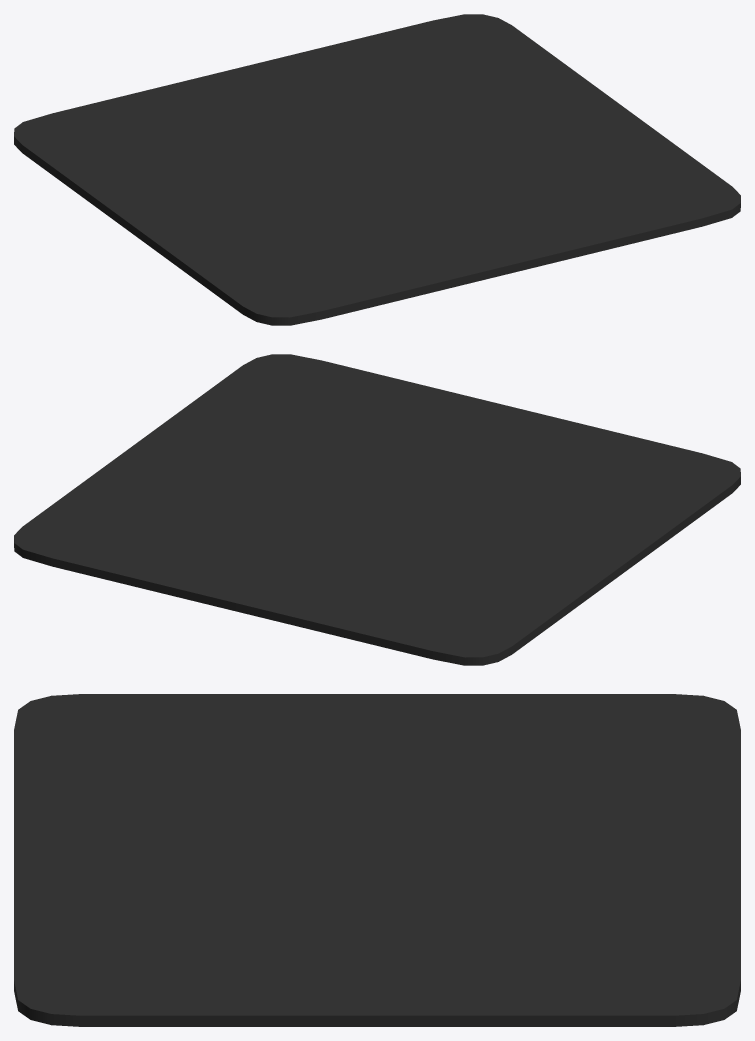
The model's file is machine_cranefloor.FBX.
3 views of the same model, one above another, from view 1: azimuth 30°, elevation 25°; view 2: azimuth 150°, elevation 25°; view 3: azimuth 270°, elevation 25° (orthographic). The views are drawn at different scales.
Visible parts, largest first — view 1: machine_cranefloor; view 2: machine_cranefloor; view 3: machine_cranefloor.
Boxes of the visible parts, <box> form: machine_cranefloor: <box>14,14,740,325</box>; machine_cranefloor: <box>14,354,740,665</box>; machine_cranefloor: <box>14,694,740,1026</box>.
Size of the model in its own units: 498 by 8.07 by 476.
